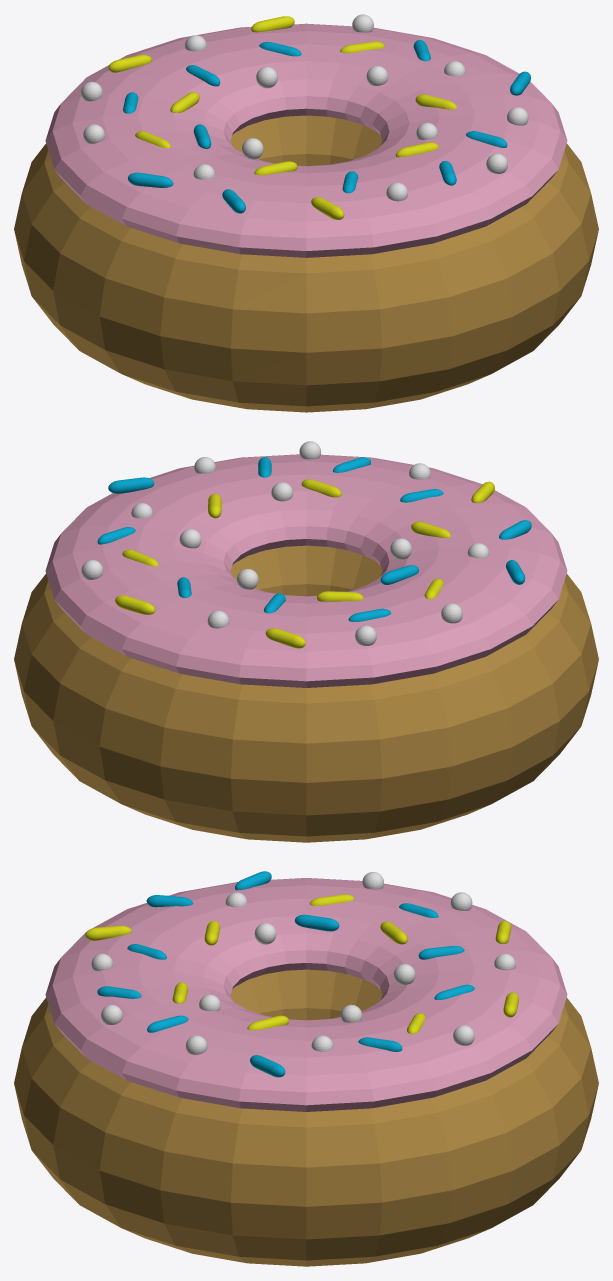
Rendered from donut.glb.
3 renders of one model, top to bottom at view 1: azimuth 30°, elevation 25°; view 2: azimuth 150°, elevation 25°; view 3: azimuth 270°, elevation 25°, orthographic.
Visible parts, largest first — view 1: Mesh_Mesh_head_geo.001_lambert2SG.001; view 2: Mesh_Mesh_head_geo.001_lambert2SG.001; view 3: Mesh_Mesh_head_geo.001_lambert2SG.001.
Boxes of the visible parts, x1,y1,x2,y2 form: Mesh_Mesh_head_geo.001_lambert2SG.001: (14, 14, 598, 412); Mesh_Mesh_head_geo.001_lambert2SG.001: (14, 441, 598, 842); Mesh_Mesh_head_geo.001_lambert2SG.001: (14, 871, 598, 1266).
Bounding box in the file's own units: 21 × 8.6 × 21.
